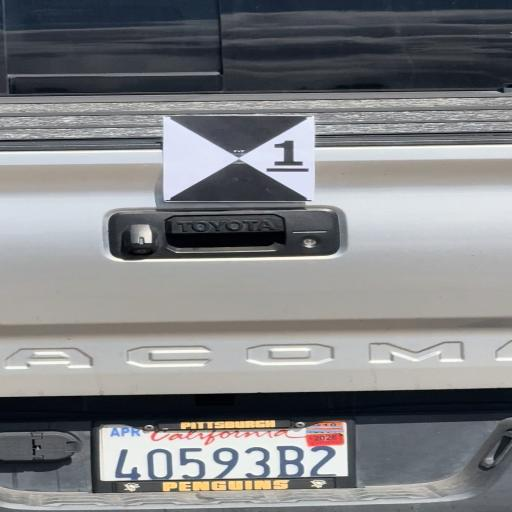target1: (165, 115, 313, 200)
